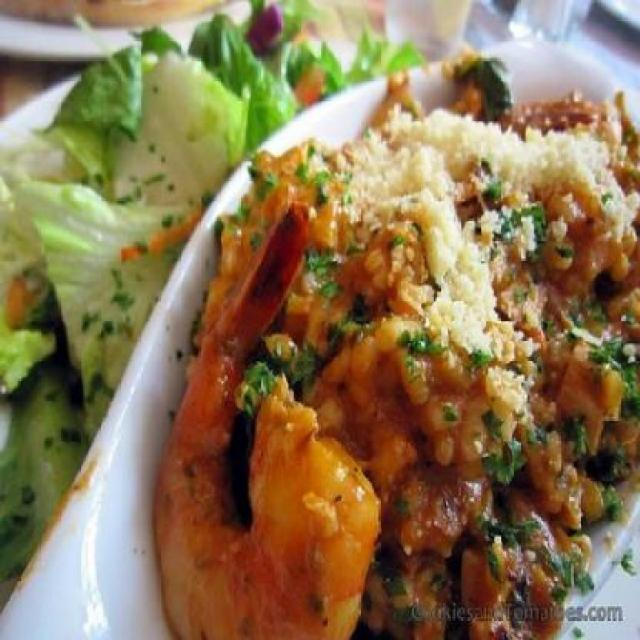Risotto: (232, 137, 623, 617)
